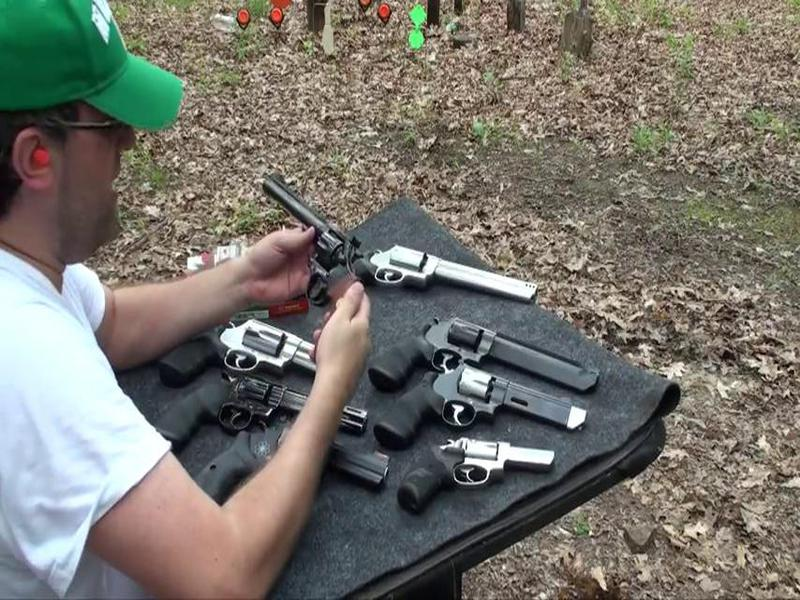Revolver: (257, 159, 369, 334)
